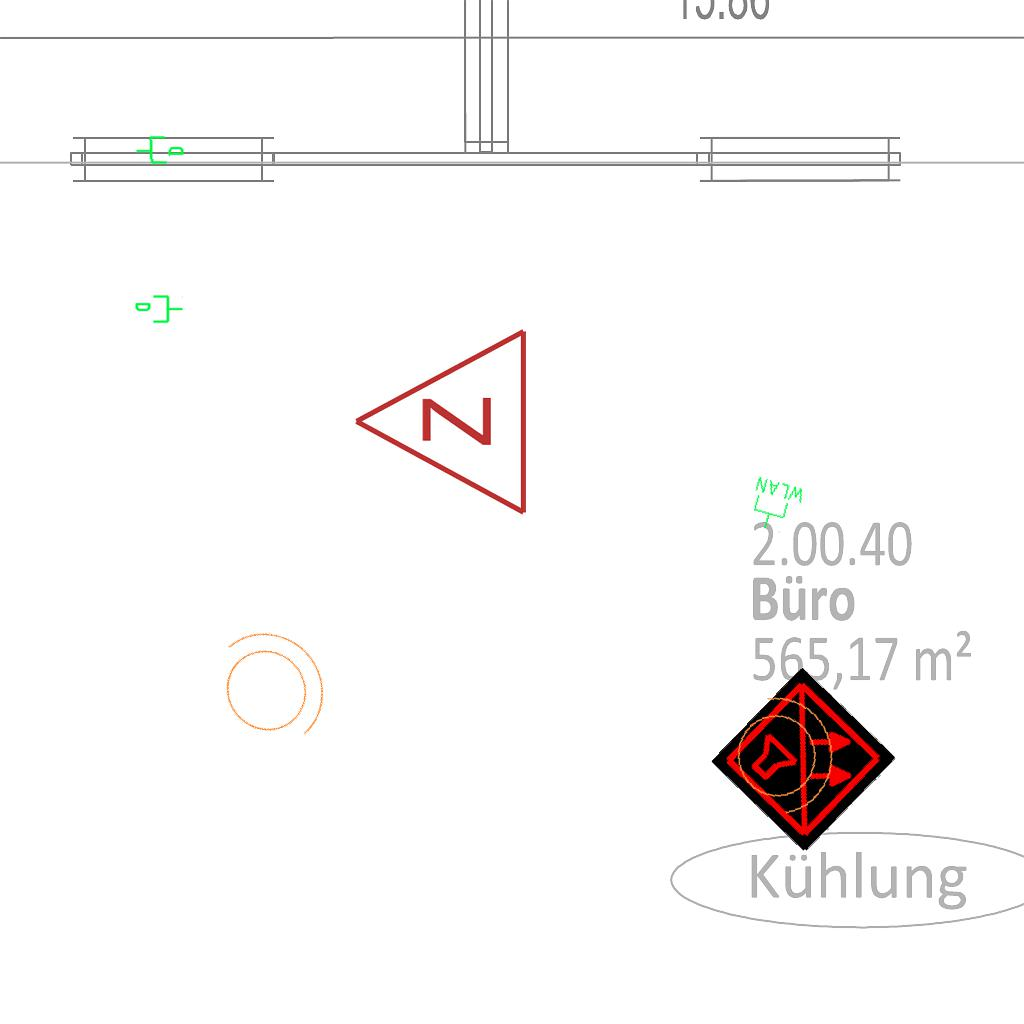Datenanschluss_einfach: (134, 130, 186, 168), (134, 293, 184, 327)
OKW_Multisensormelder_(Kombination_optischer_Rauch-Kahlenmonoxid_Waerme-Melder): (710, 666, 898, 854)
Scheinwerfer_fuer_Alarmbeleuchtung: (182, 598, 354, 772), (715, 678, 847, 826)
WLAN: (744, 474, 808, 538)
Zimmersignalleuchte: (341, 326, 541, 522)
